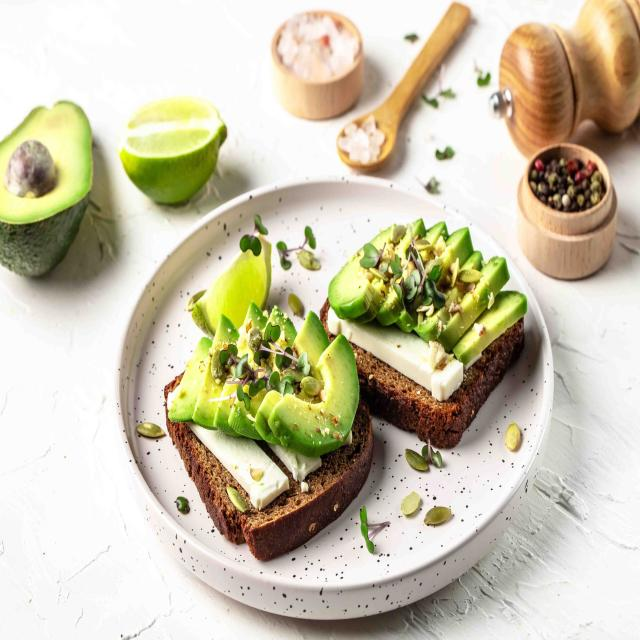aguacate: (329, 204, 528, 352), (166, 311, 363, 452), (1, 91, 106, 290)
